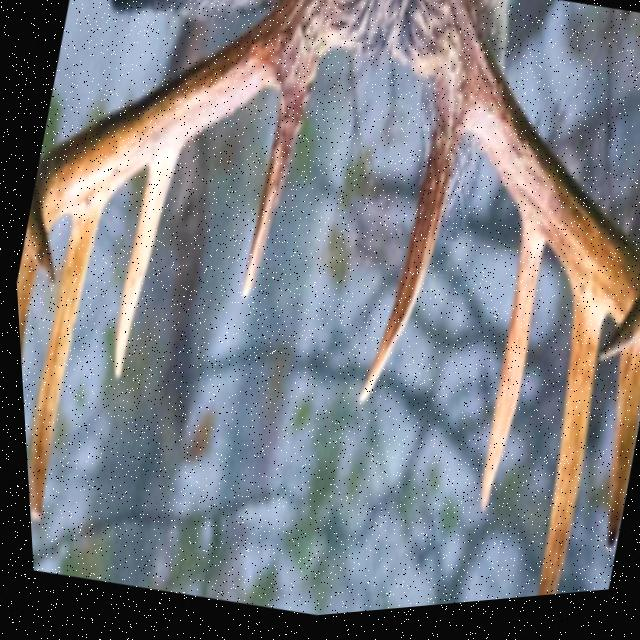L-F: (431, 4, 640, 373)
L-G1: (352, 118, 461, 413)
L-G2: (473, 225, 543, 522)
L-G3: (528, 299, 601, 605)
R-F: (21, 0, 332, 289)
R-G1: (237, 63, 317, 304)
R-G2: (108, 153, 177, 381)
R-G3: (22, 198, 107, 523)
